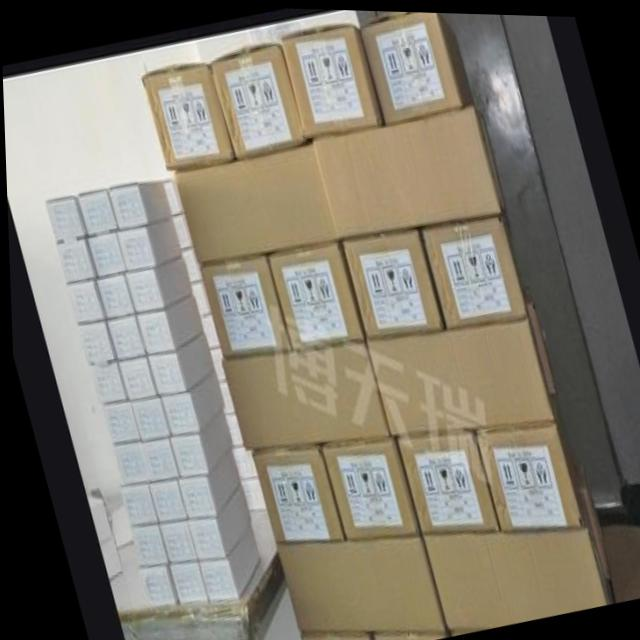box: (311, 102, 505, 236), (420, 487, 605, 625), (365, 311, 551, 432), (175, 138, 336, 262), (220, 338, 386, 446), (271, 531, 441, 630), (471, 394, 579, 530), (359, 9, 472, 122), (417, 213, 525, 326), (281, 21, 383, 136), (209, 42, 304, 159), (340, 228, 443, 335), (267, 239, 364, 349), (393, 428, 496, 531), (318, 435, 417, 536), (141, 62, 233, 168), (198, 253, 289, 357), (248, 442, 342, 542), (183, 483, 247, 560), (194, 521, 256, 598), (568, 454, 606, 576), (174, 446, 237, 519), (166, 407, 229, 474), (145, 332, 212, 394), (134, 295, 201, 353), (124, 255, 189, 313), (160, 370, 221, 431), (598, 520, 640, 599), (115, 220, 179, 271), (106, 180, 170, 229), (525, 296, 555, 390), (42, 194, 86, 242), (76, 187, 116, 235), (136, 434, 177, 480), (127, 395, 168, 440), (55, 238, 95, 284), (86, 231, 125, 277), (94, 271, 133, 317), (75, 319, 114, 365), (104, 315, 144, 359), (116, 355, 155, 399), (145, 477, 183, 522), (135, 564, 175, 606), (65, 280, 104, 323), (99, 401, 138, 444), (165, 560, 204, 602), (127, 523, 165, 566), (156, 519, 194, 562), (88, 361, 125, 405), (110, 440, 146, 484), (117, 483, 154, 524), (81, 489, 108, 544), (106, 501, 130, 549), (95, 536, 118, 579), (366, 628, 442, 640), (237, 475, 262, 510), (170, 211, 191, 249), (187, 277, 208, 315), (179, 244, 200, 280), (295, 630, 369, 640), (161, 178, 182, 213), (230, 447, 254, 477), (198, 313, 217, 349), (221, 412, 240, 447), (207, 345, 224, 380), (215, 378, 231, 413)
